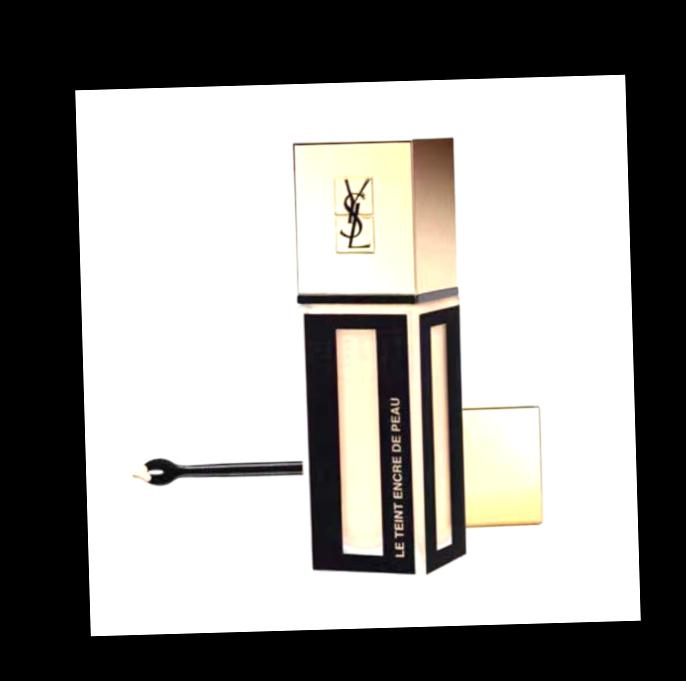cosmetic: (294, 138, 470, 581)
